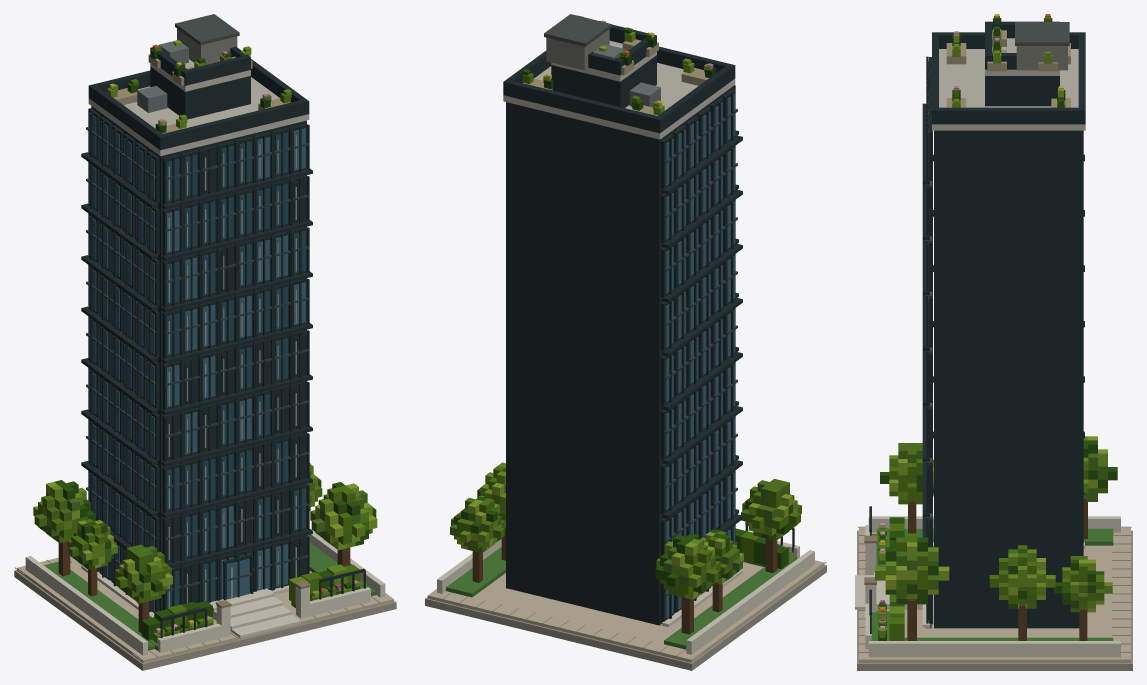
File: SM_Mapa_028.fbx
3 views of the same model, side by side, from view 1: azimuth 30°, elevation 25°; view 2: azimuth 150°, elevation 25°; view 3: azimuth 270°, elevation 25° (orthographic). The views are drawn at different scales.
Visible parts, largest first — view 1: SM_Mapa_028; view 2: SM_Mapa_028; view 3: SM_Mapa_028.
Boxes of the visible parts, bbox=[...] form: SM_Mapa_028: bbox=[14, 14, 396, 670]; SM_Mapa_028: bbox=[425, 14, 826, 670]; SM_Mapa_028: bbox=[855, 14, 1132, 670].
Size of the model in its own units: 14 by 12.17 by 28.24.
